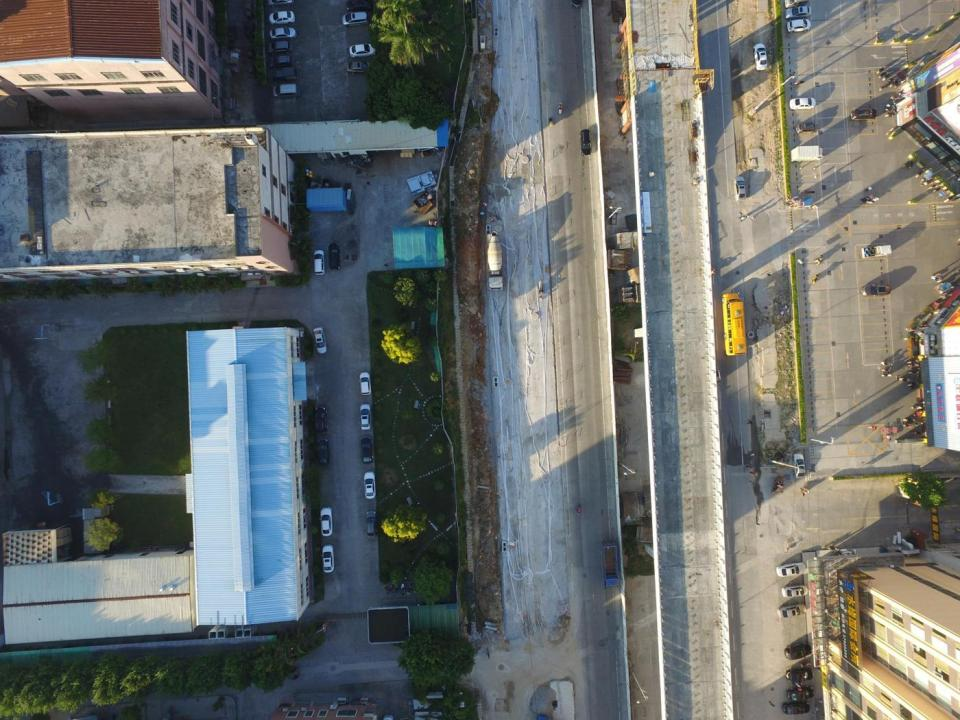bus: (721, 292, 747, 356)
car: (784, 642, 813, 660), (318, 507, 335, 537), (776, 602, 806, 619), (326, 242, 343, 271), (786, 685, 815, 702), (752, 42, 768, 72), (776, 561, 806, 577), (348, 42, 378, 57), (341, 11, 371, 26), (271, 66, 299, 82), (315, 437, 330, 466), (321, 545, 336, 574), (860, 283, 891, 297), (313, 326, 328, 354), (314, 404, 328, 434), (268, 38, 292, 55), (579, 127, 592, 158), (269, 10, 297, 24), (360, 436, 374, 464), (786, 5, 812, 20), (732, 176, 747, 202), (787, 667, 813, 682), (780, 702, 810, 715), (269, 25, 296, 39), (365, 509, 378, 538), (346, 59, 372, 73), (363, 471, 376, 499), (789, 96, 815, 110), (791, 453, 805, 479), (268, 53, 292, 68), (358, 371, 372, 396), (796, 121, 820, 135), (313, 249, 326, 274), (782, 584, 807, 597), (787, 19, 811, 32), (850, 108, 876, 120), (360, 403, 370, 431)
truck: (485, 229, 504, 290), (600, 540, 620, 587), (792, 146, 824, 162), (859, 244, 892, 258)
van: (272, 82, 301, 100)
